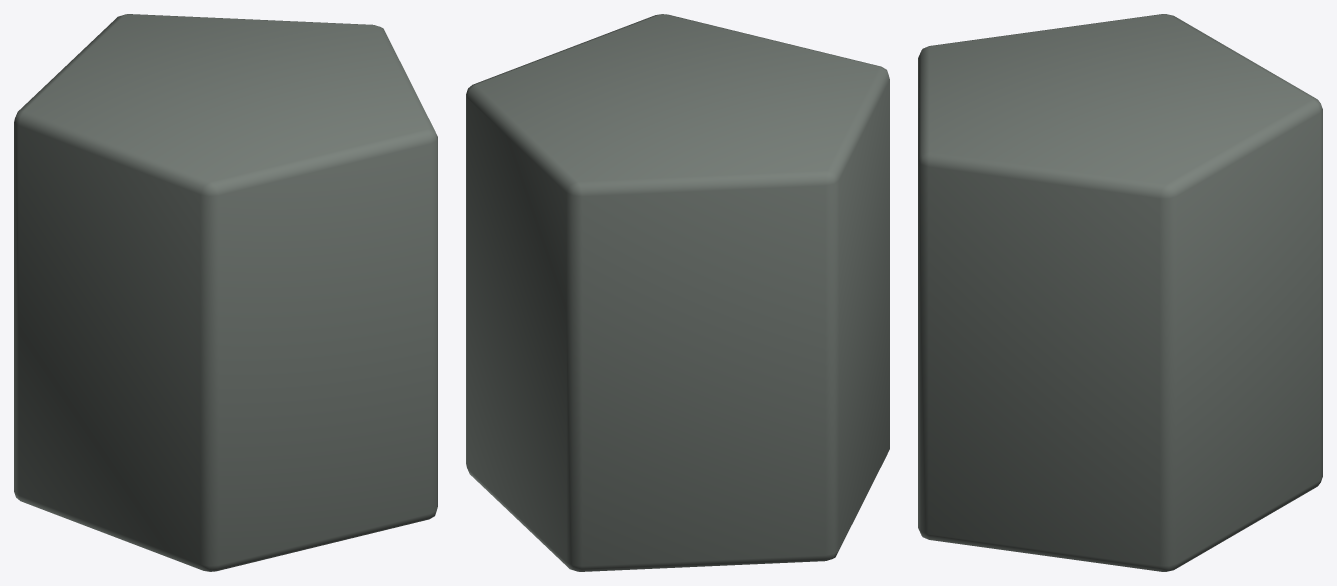
The model's file is platform.fbx.
The picture shows the model from 3 angles, left to right: view 1: azimuth 30°, elevation 25°; view 2: azimuth 150°, elevation 25°; view 3: azimuth 270°, elevation 25°; orthographic projection.
Parts seen in each view (by area): view 1: platform; view 2: platform; view 3: platform.
Part boxes in pixels (x1,y1,x2,y2): platform: [14, 14, 437, 571]; platform: [466, 14, 889, 571]; platform: [918, 14, 1322, 571].
Size of the model in its own units: 187 by 189 by 179.
